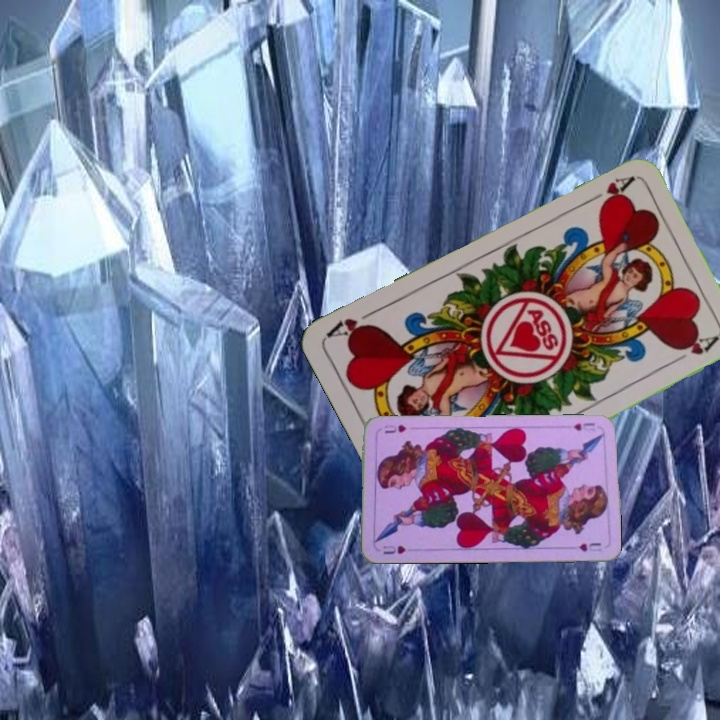HA: (580, 172, 636, 207)
HU: (379, 541, 408, 557), (570, 418, 597, 433)
